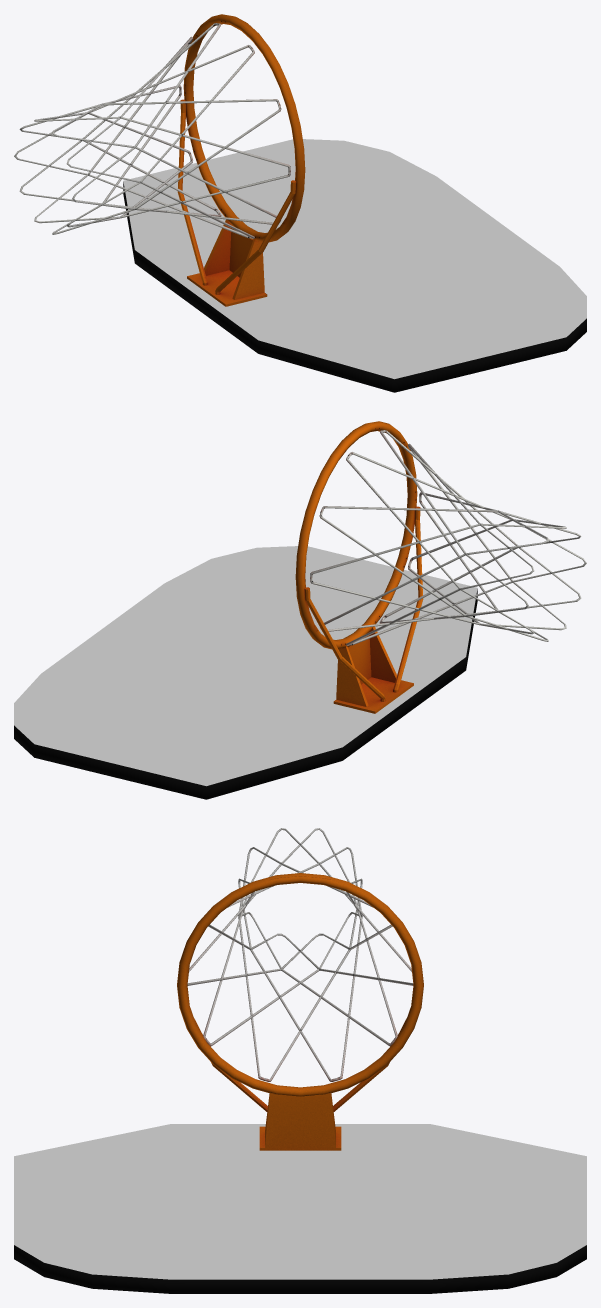
Rendered from Basketball.obj.
3 renders of one model, top to bottom at view 1: azimuth 30°, elevation 25°; view 2: azimuth 150°, elevation 25°; view 3: azimuth 270°, elevation 25°, orthographic. The views are drawn at different scales.
Parts seen in each view (by area): view 1: panel_Cube, support_Cube.001, net_Circle.001; view 2: panel_Cube, support_Cube.001, net_Circle.001; view 3: panel_Cube, support_Cube.001, net_Circle.001.
Boxes of the visible parts, bbox=[...] form: panel_Cube: bbox=[123, 139, 586, 392]; support_Cube.001: bbox=[177, 14, 305, 306]; net_Circle.001: bbox=[14, 23, 290, 238]; panel_Cube: bbox=[14, 546, 477, 799]; support_Cube.001: bbox=[295, 421, 423, 713]; net_Circle.001: bbox=[310, 430, 586, 645]; panel_Cube: bbox=[14, 1124, 586, 1293]; support_Cube.001: bbox=[177, 873, 423, 1150]; net_Circle.001: bbox=[187, 828, 413, 1081].
Size of the model in its own units: 1.06 by 0.6086 by 1.09.
